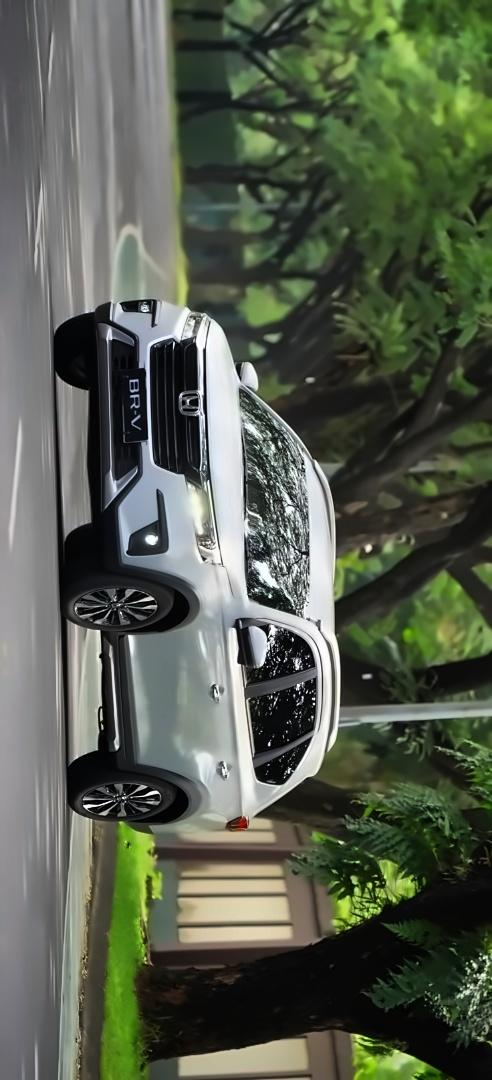Car hood: (201, 312, 251, 605)
Fender - -F-L-: (111, 565, 264, 640)
Fender - -R-L-: (149, 778, 261, 823)
Front bumper: (89, 291, 196, 590)
Headlight - -L-: (181, 472, 227, 568)
Headlight - -R-: (175, 305, 213, 359)
Passenger-s door - -F-L-: (119, 627, 329, 706)
Passenger-s door - -R-L-: (120, 694, 329, 784)
Rear bumper: (119, 811, 203, 843)
Rear light - -L-: (217, 809, 256, 836)
Side bumper - -L-: (95, 621, 145, 781)
Side mirror - -L-: (226, 616, 270, 678)
Side mirror - -R-: (227, 352, 263, 397)
